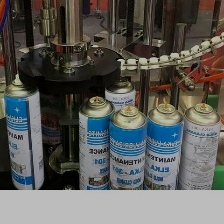aerosol_cans: (136, 98, 187, 212), (171, 98, 222, 212), (2, 70, 47, 196), (76, 91, 117, 211), (107, 101, 149, 215), (103, 71, 138, 170)
